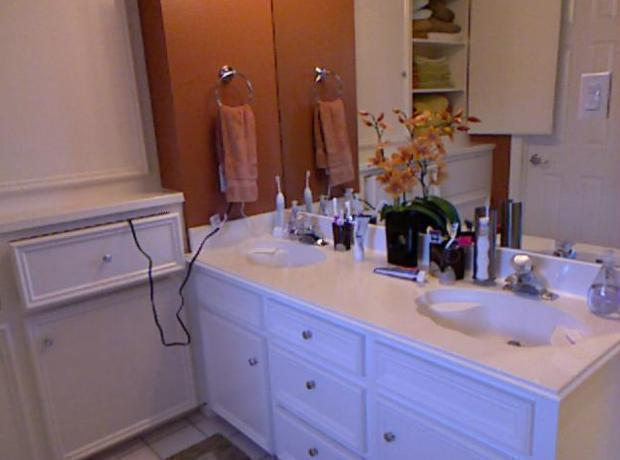Lavamanos: (402, 242, 595, 363), (239, 212, 327, 280)
